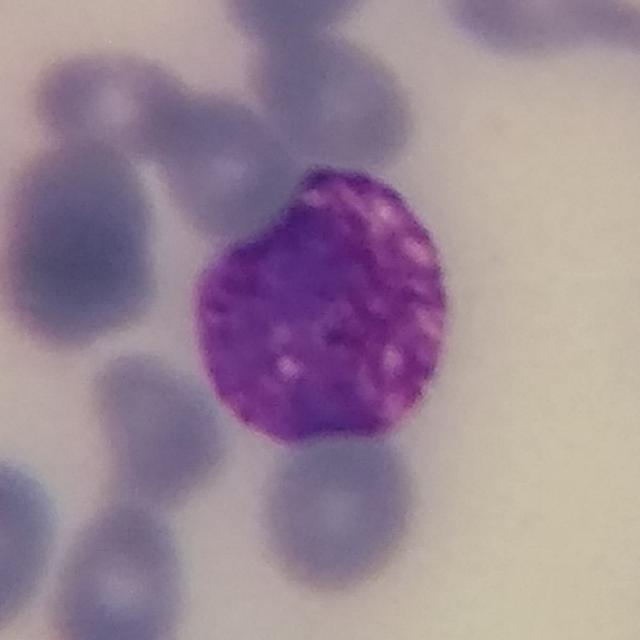baso: (194, 152, 455, 456)
